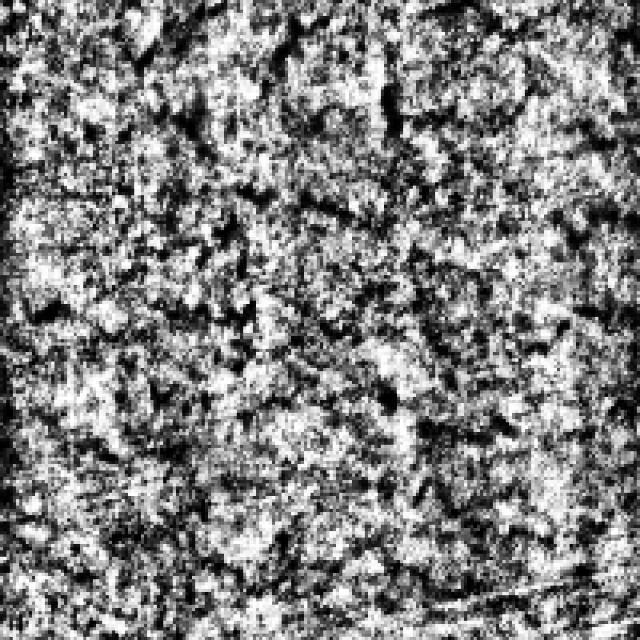Pitted_Surface: (108, 0, 420, 269)
